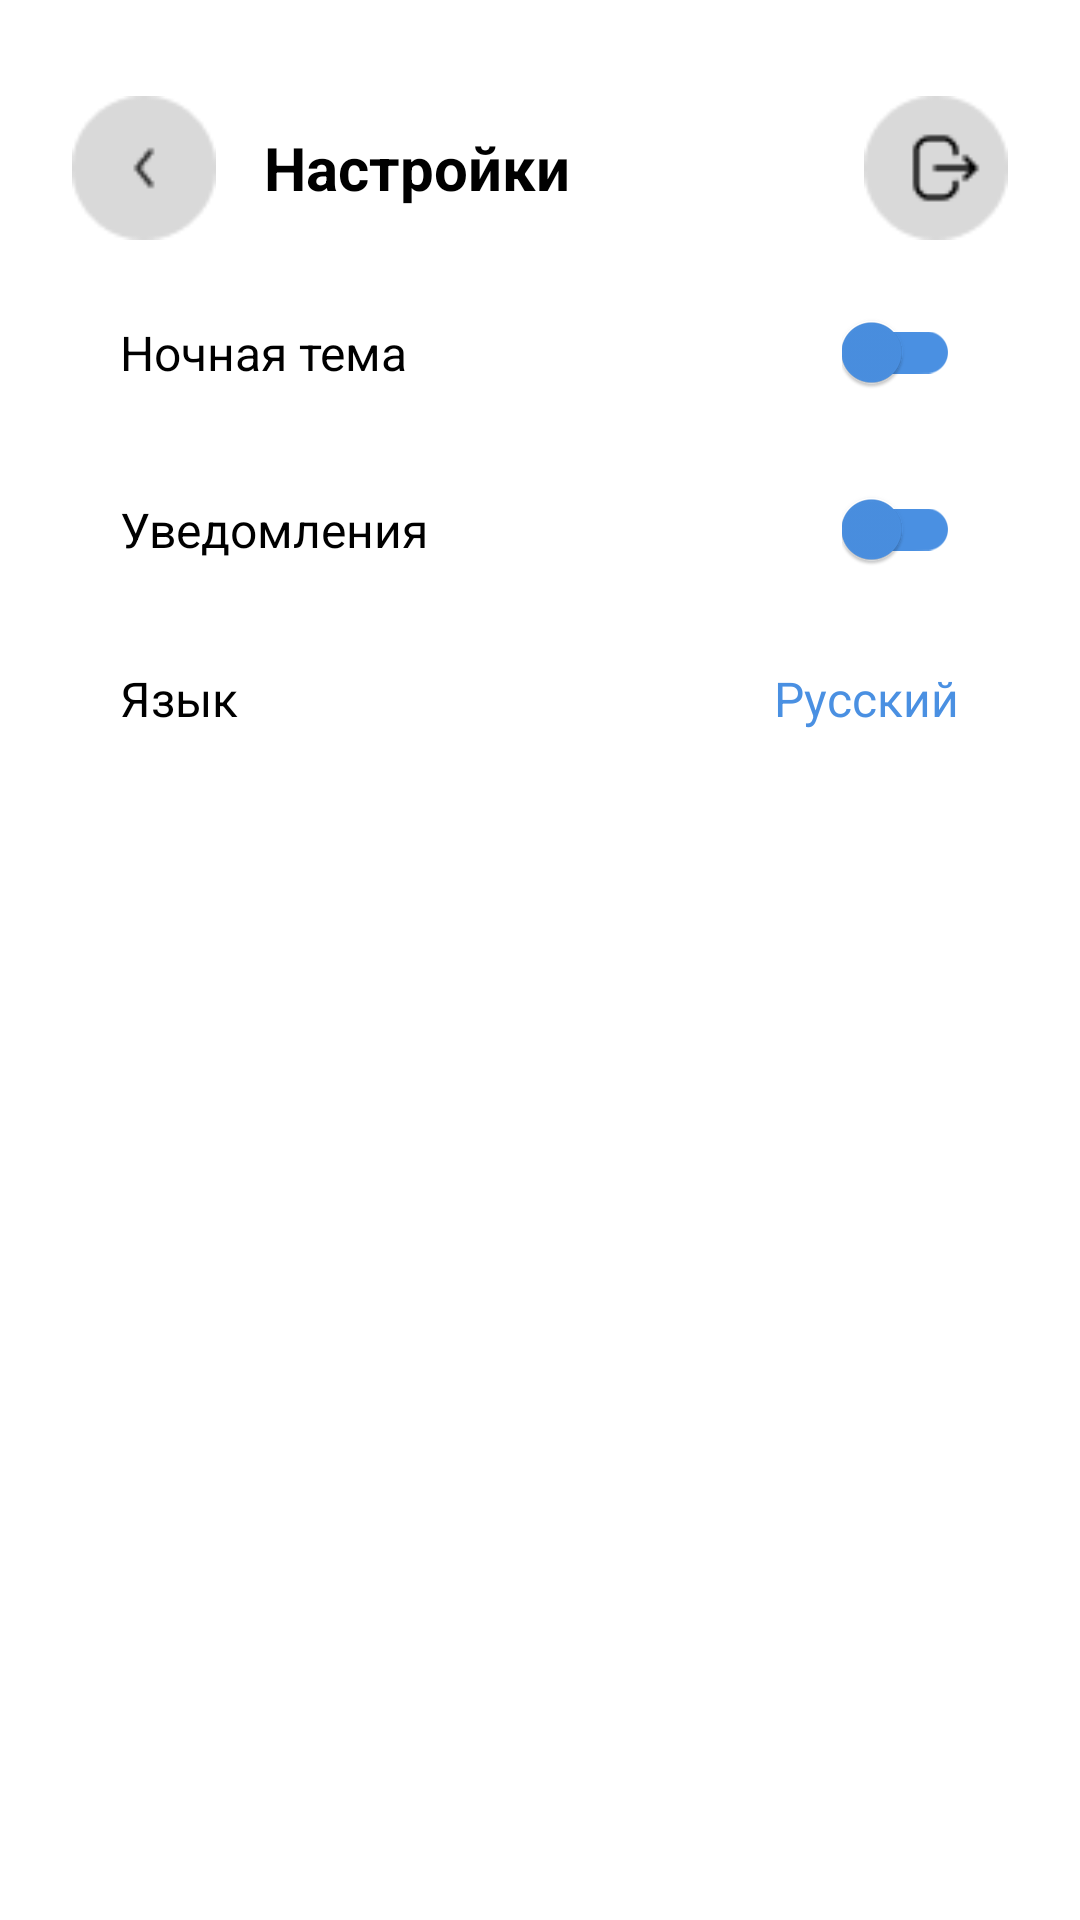

Icons on this 1080x1920 Android screen, each with the point to tap as [x,y]:
arrow back: [144,168]
